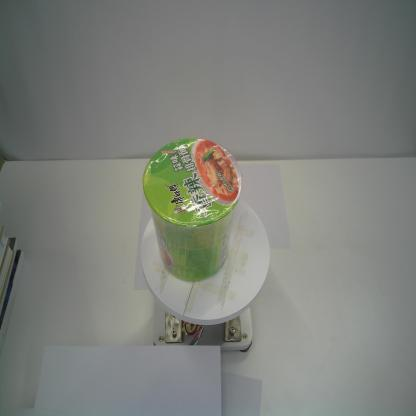Instant Noodles: (141, 133, 244, 284)
